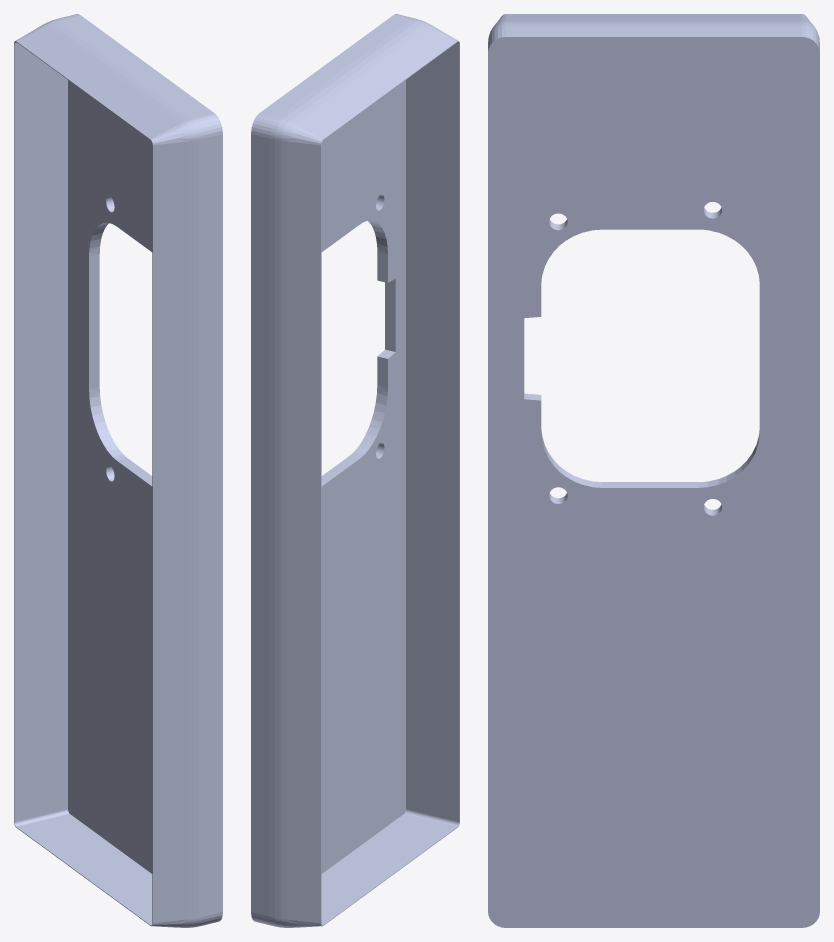
Rendered from RSM_Enclosure_Inside.glb.
The picture shows the model from 3 angles, left to right: view 1: azimuth 30°, elevation 25°; view 2: azimuth 150°, elevation 25°; view 3: azimuth 270°, elevation 25°; orthographic projection. The views are drawn at different scales.
Visible parts, largest first — view 1: world; view 2: world; view 3: world.
Part boxes in pixels (x1,y1,x2,y2): world: (14, 14, 222, 927); world: (251, 14, 459, 927); world: (488, 14, 819, 927).
Bounding box in the file's own units: 9.6 × 115 × 38.9.
